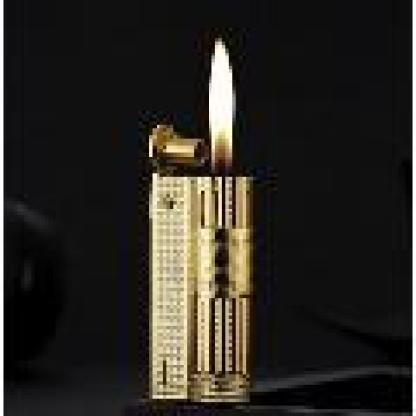Fire: (206, 35, 231, 152)
